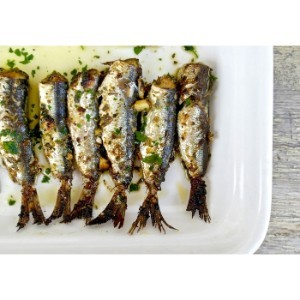sardine_brain food: (7, 62, 230, 227)
